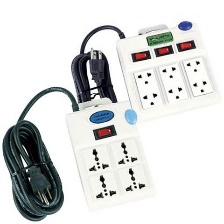three_eye_plug: (110, 19, 224, 125), (61, 96, 160, 216)
